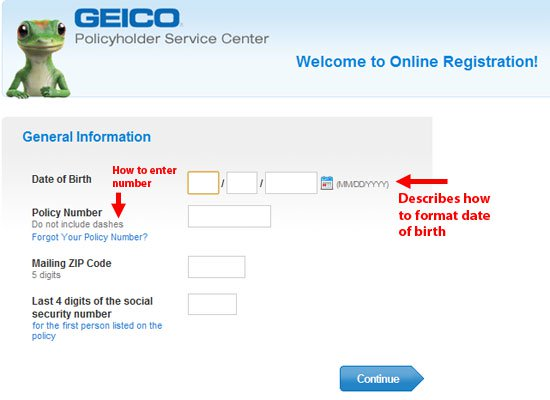button: (324, 350, 430, 397)
textbox: (181, 170, 317, 199)
